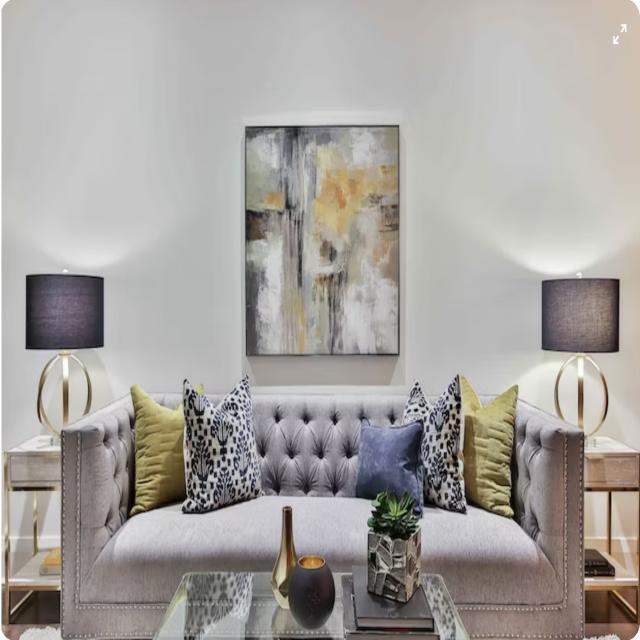bottle: (292, 554, 334, 629), (270, 502, 298, 614)
lamp: (538, 272, 624, 422), (24, 272, 106, 416)
picture: (239, 120, 403, 360)
pillow: (180, 378, 264, 512), (458, 352, 518, 516), (126, 378, 180, 520), (408, 376, 464, 510), (355, 420, 422, 500)
potted plant: (367, 486, 425, 604)
sofa: (58, 382, 588, 640)
